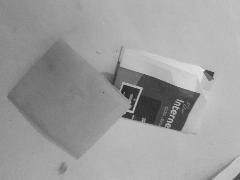paper: (8, 37, 132, 159), (112, 47, 209, 134)
